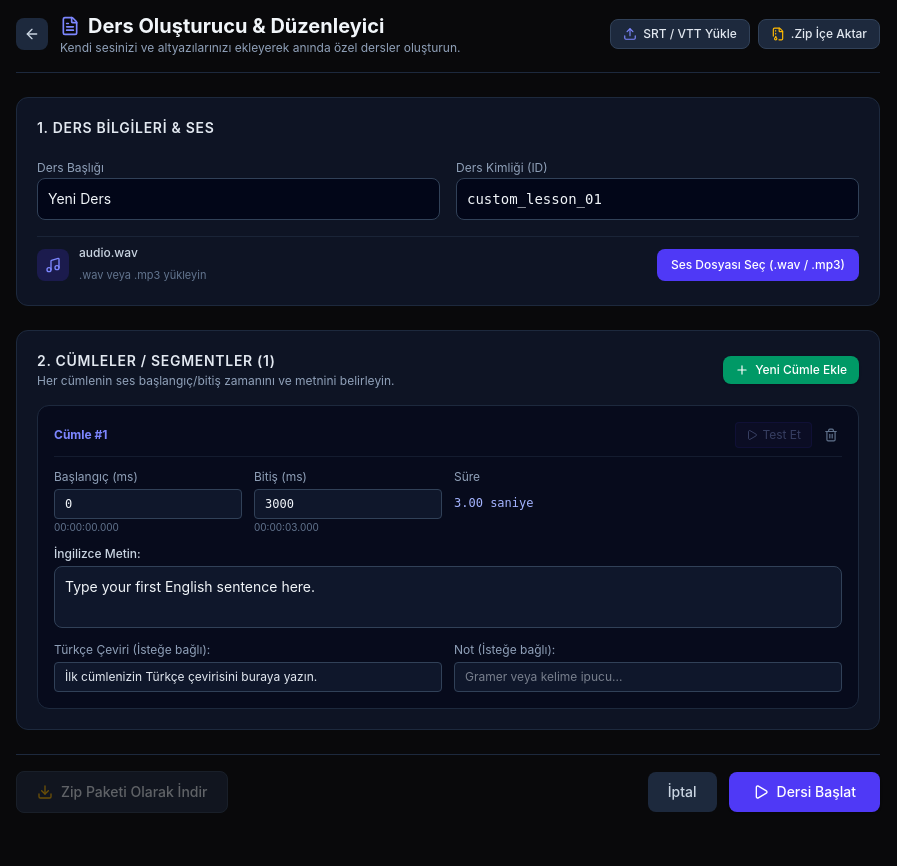
Scenario: LessonEditorView Component (F4.3) › shows validation error if starting without an audio file
Click the button "Dersi Başlat". click: x=804, y=792
box: [728,772,880,812]
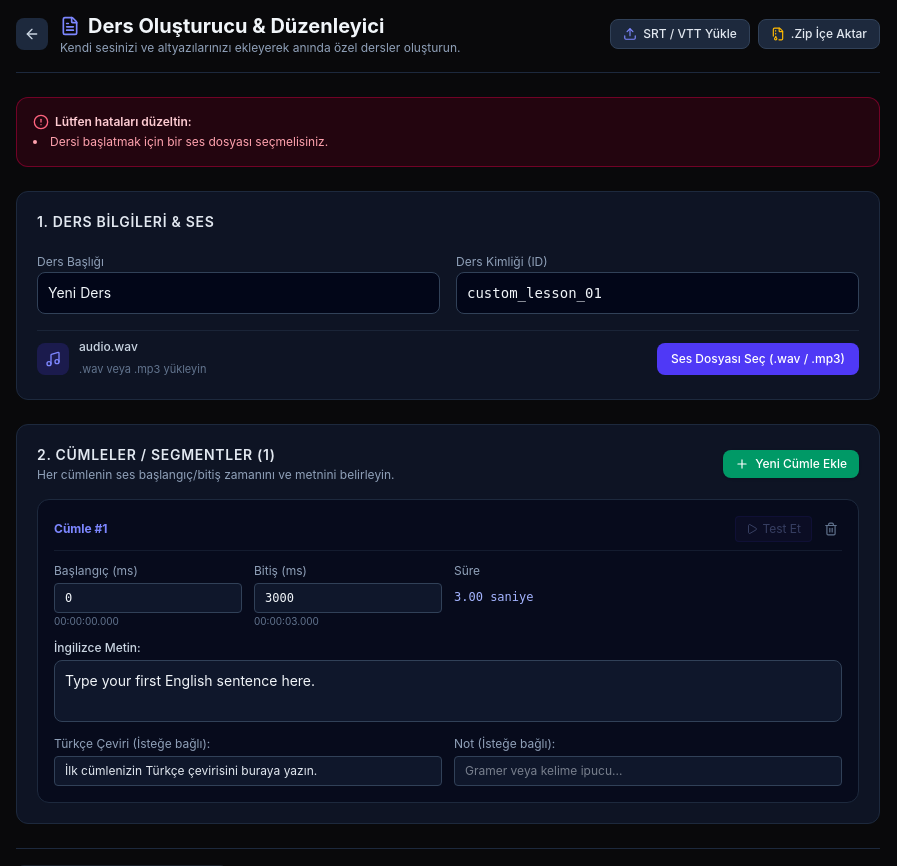
Expected: the list item "Dersi başlatmak için bir ses dosyası seçmelisiniz." is shown, [50,134,328,149]
